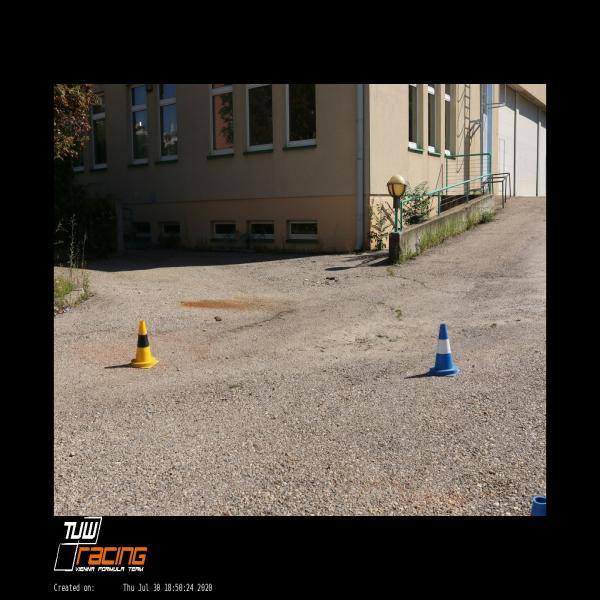blue_cone: (426, 324, 460, 376)
yellow_cone: (127, 320, 160, 368)
